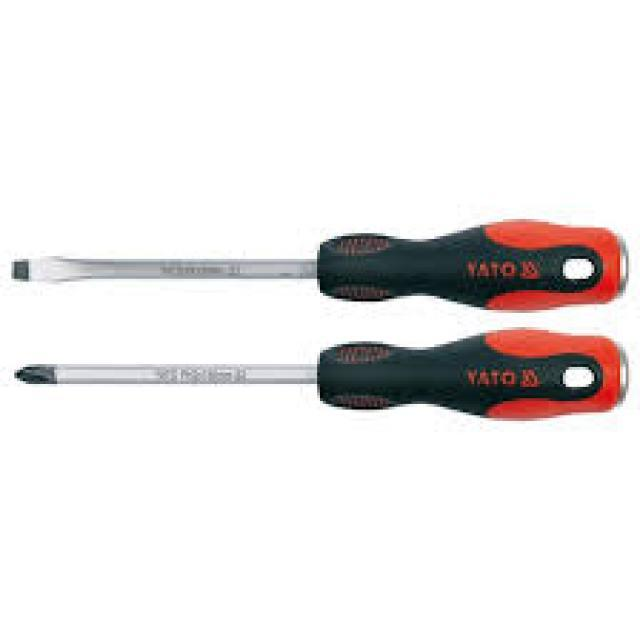screwdriver: (6, 316, 632, 426), (6, 216, 628, 319)
